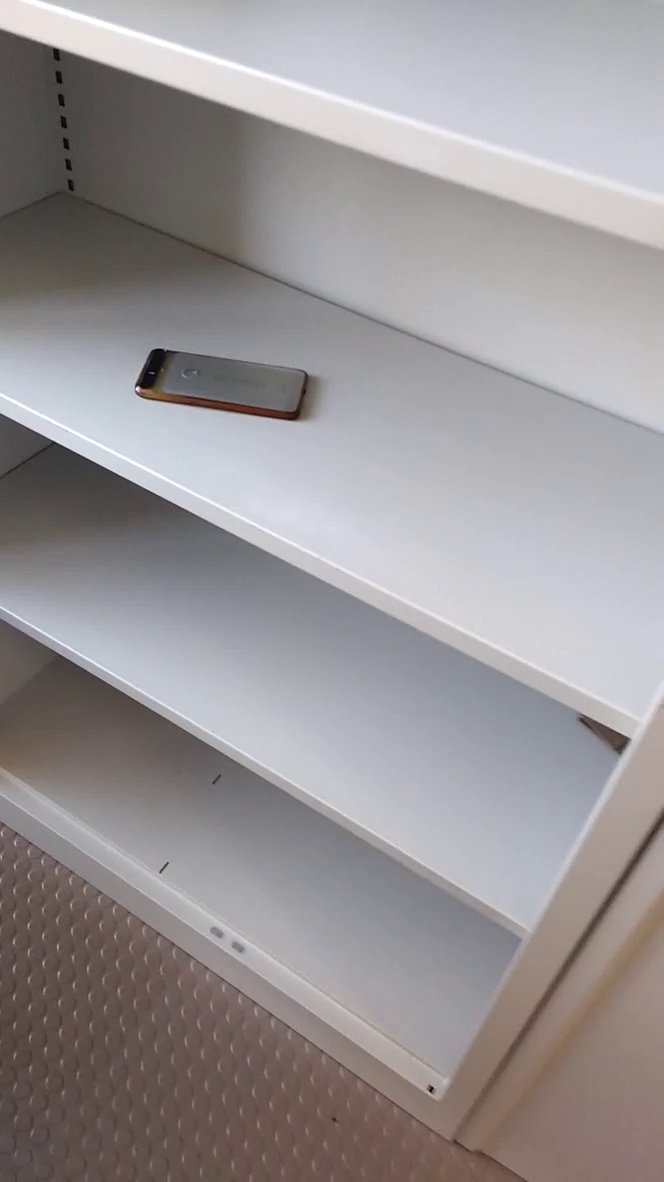phone: (131, 337, 315, 431)
